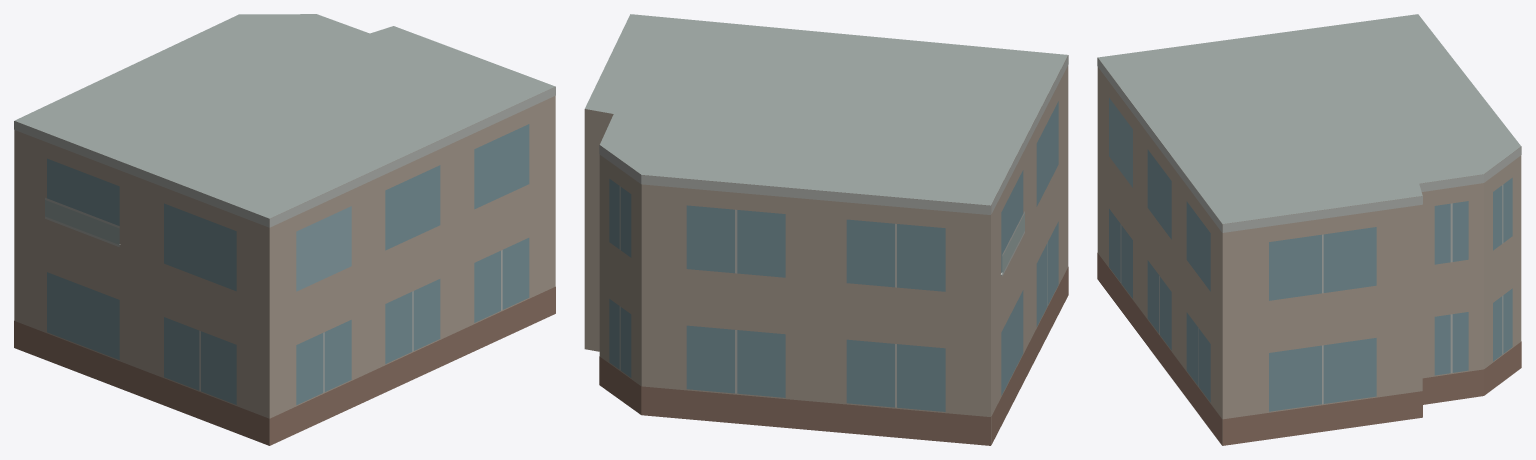
Rendered from survey-upis-32809327.glb.
The picture shows the model from 3 angles, left to right: view 1: azimuth 30°, elevation 25°; view 2: azimuth 150°, elevation 25°; view 3: azimuth 270°, elevation 25°; orthographic projection. The views are drawn at different scales.
Visible parts, largest first — view 1: survey-upis-32809327.tmp; view 2: survey-upis-32809327.tmp; view 3: survey-upis-32809327.tmp.
Boxes of the visible parts, x1,y1,x2,y2 form: survey-upis-32809327.tmp: [14, 14, 555, 445]; survey-upis-32809327.tmp: [584, 14, 1068, 445]; survey-upis-32809327.tmp: [1097, 14, 1521, 445].
Bounding box in the file's own units: 12.41 × 6.1 × 10.57.
